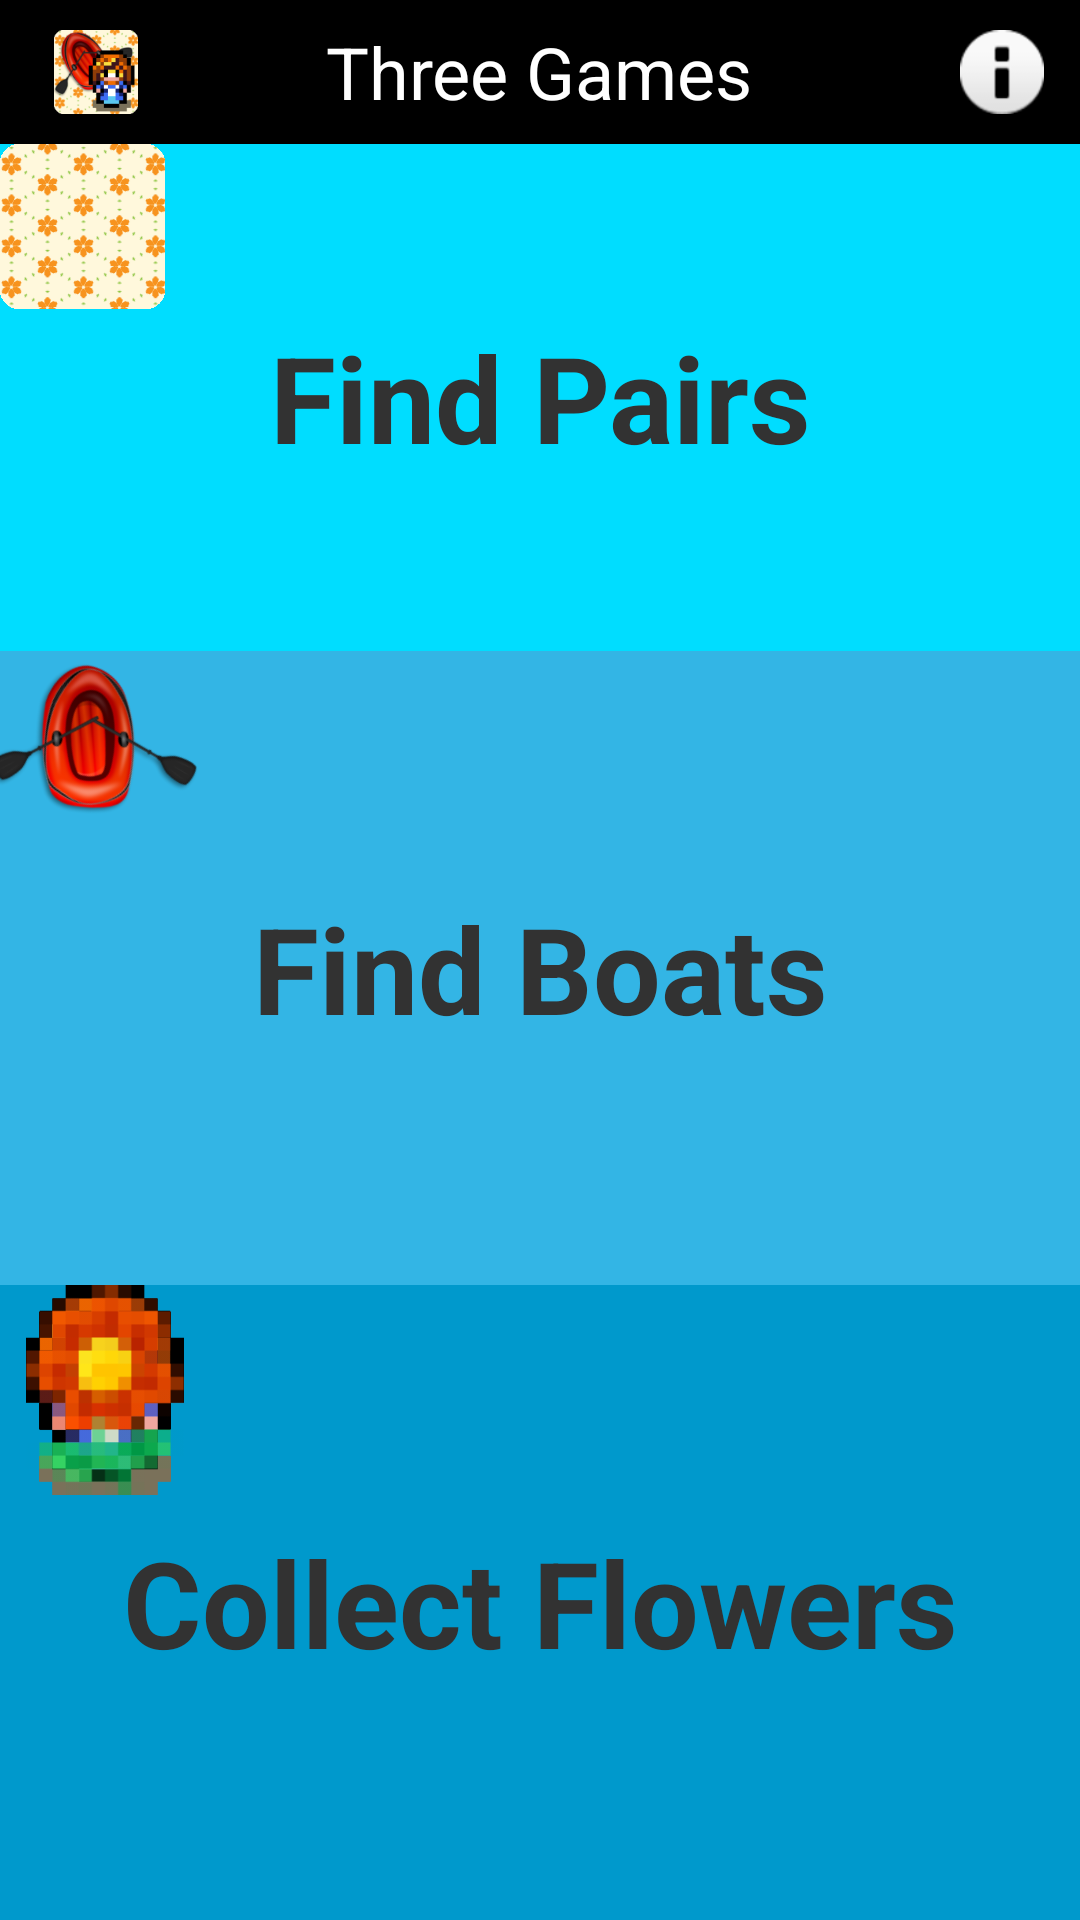

Screen size 1080px×1920px. Icon name, then its center in pixels as (x,y):
info: (1002,72)
